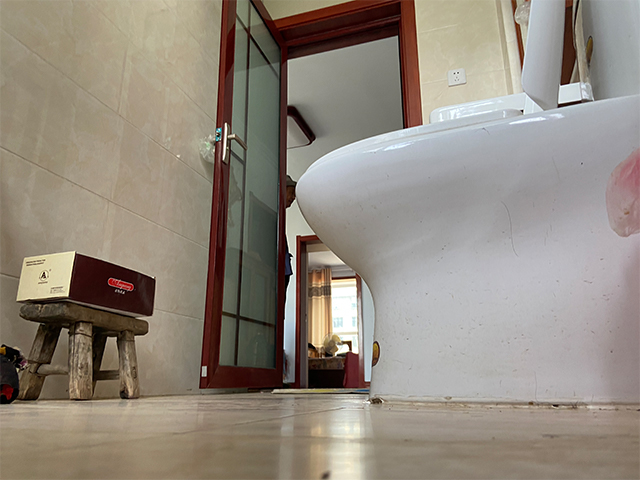carpet: (271, 387, 371, 395)
closestool: (293, 1, 639, 409)
stool: (16, 303, 149, 402)
